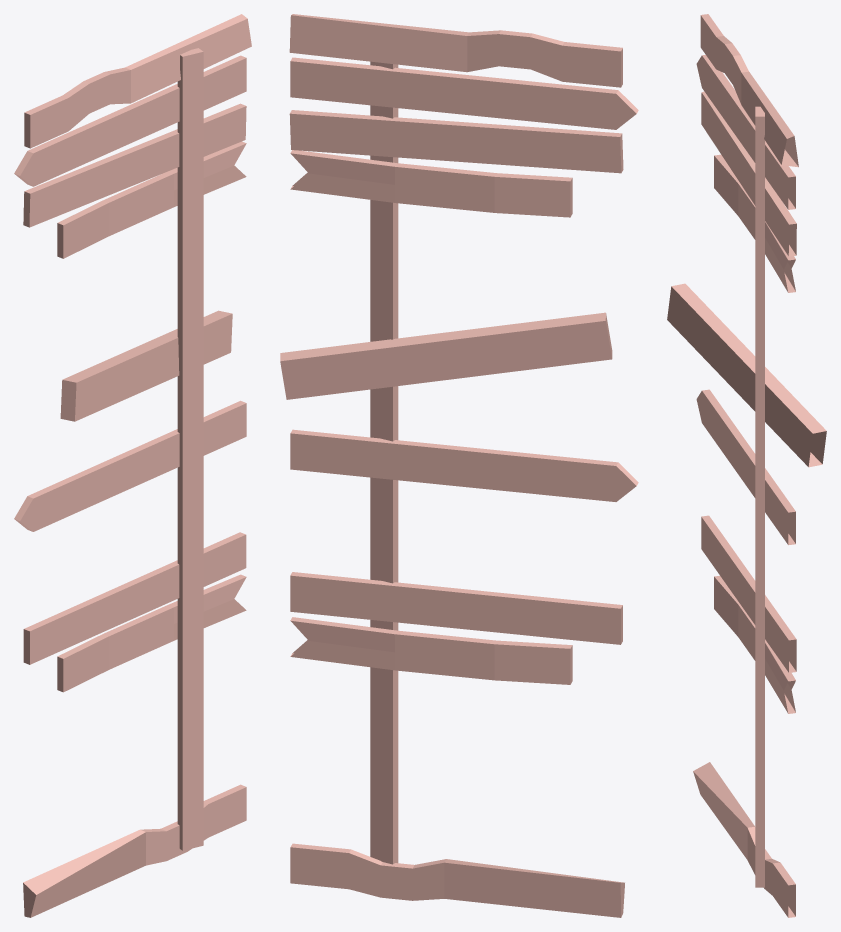
Rendered from Mega_Asset_s_Pack_Cube_233.FBX.
The picture shows the model from 3 angles, left to right: view 1: azimuth 30°, elevation 25°; view 2: azimuth 150°, elevation 25°; view 3: azimuth 270°, elevation 25°; orthographic projection. The views are drawn at different scales.
Parts seen in each view (by area): view 1: Mega_Asset_s_Pack_Cube_233; view 2: Mega_Asset_s_Pack_Cube_233; view 3: Mega_Asset_s_Pack_Cube_233.
Part boxes in pixels (<box>): Mega_Asset_s_Pack_Cube_233: <box>14,14,251,917</box>; Mega_Asset_s_Pack_Cube_233: <box>280,14,638,917</box>; Mega_Asset_s_Pack_Cube_233: <box>667,14,826,917</box>.
Size of what is drawn, in the model's own units: 167 by 85.51 by 466.
